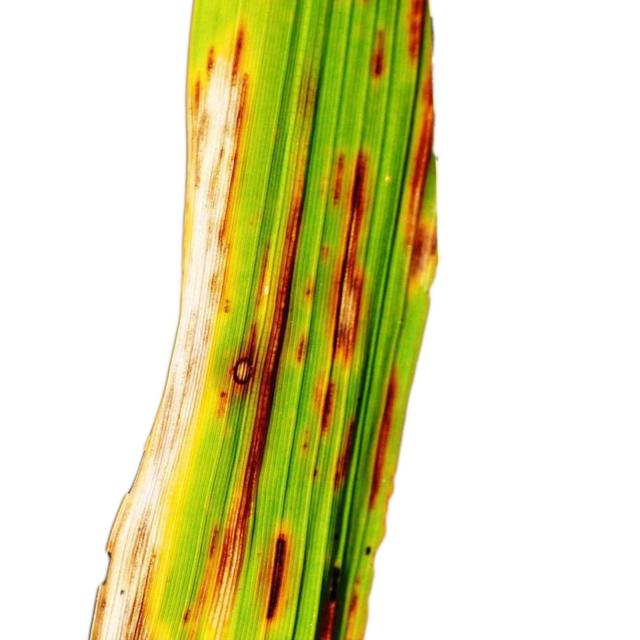Narrow brown: (85, 0, 468, 640)
